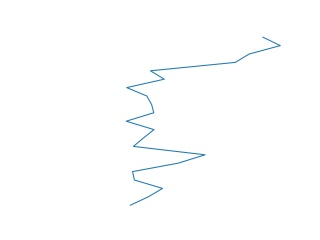crevasseRiverChannelBar: (119, 33, 285, 211)
